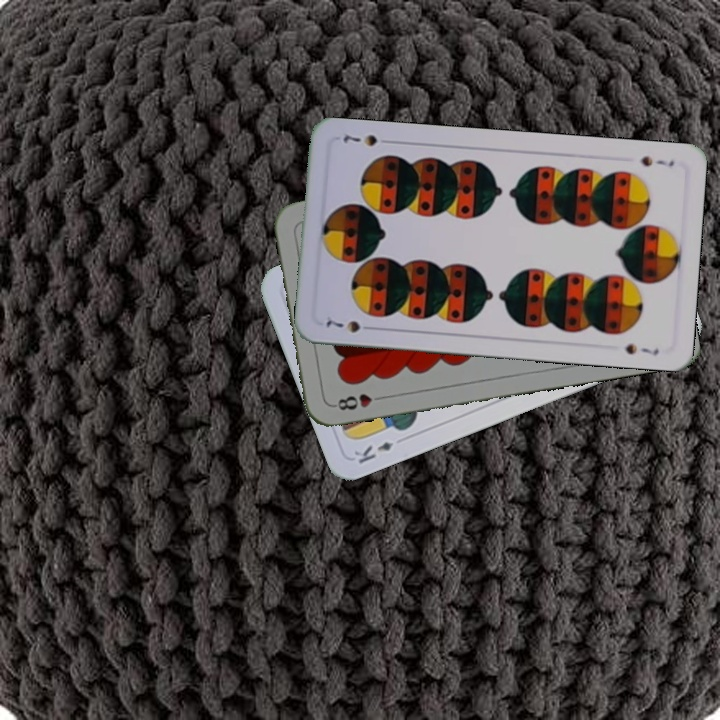EK: (350, 437, 396, 467)
H8: (329, 389, 388, 413)
S7: (323, 316, 378, 335), (636, 152, 677, 170)
